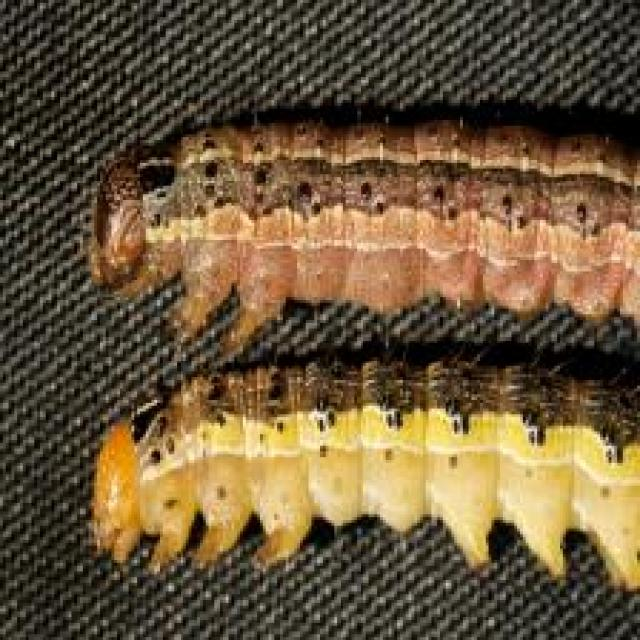Plaga: (75, 95, 640, 350), (75, 364, 640, 618)
